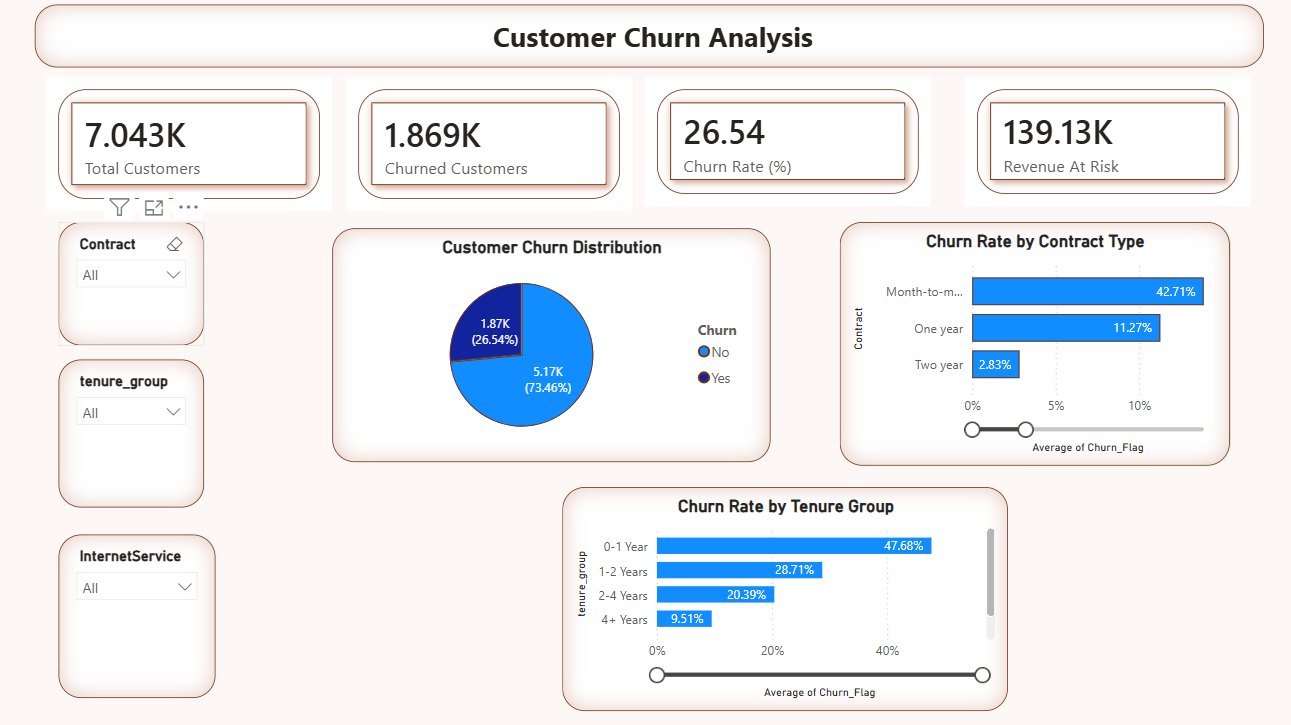

Layout of this report page (visuals, bound fields, positions):
{"tool":"powerbi","page":{"name":"OVERVIEW","canvas":[1280,720],"ordinal":0},"visuals":[{"type":"cardVisual","fields":{"Data":["CountNonNull(clean_telco_churn.customerID)"]},"box":[53.8,83.8,280,131.2],"z":0},{"type":"cardVisual","fields":{"Data":["Sum(clean_telco_churn.Churn_Flag)"]},"box":[347.5,83.8,280,131.2],"z":1000},{"type":"cardVisual","fields":{"Data":["clean_telco_churn.Revenue At Risk"]},"box":[952.5,83.8,280,126.2],"z":2000},{"type":"pieChart","title":"Customer Churn Distribution","fields":{"Category":["clean_telco_churn.Churn"],"Y":["CountNonNull(clean_telco_churn.customerID)"]},"box":[333.8,231.2,428.8,228.8],"z":3000},{"type":"clusteredBarChart","title":"Churn Rate by Contract Type","fields":{"Category":["clean_telco_churn.Contract"],"Y":["Avg(clean_telco_churn.Churn_Flag)"]},"box":[830,225,381.2,238.8],"z":4000},{"type":"clusteredBarChart","title":"Churn Rate by Tenure Group","fields":{"Category":["clean_telco_churn.tenure_group"],"Y":["Avg(clean_telco_churn.Churn_Flag)"]},"box":[558.5,484.4,436.4,219.6],"z":5000},{"type":"slicer","fields":{"Values":["clean_telco_churn.Contract"]},"box":[65.9,225,142.7,120.8],"z":6000},{"type":"slicer","fields":{"Values":["clean_telco_churn.tenure_group"]},"box":[66.2,360,142.5,145],"z":7000},{"type":"slicer","fields":{"Values":["clean_telco_churn.InternetService"]},"box":[66.2,531.2,153.8,160],"z":8000},{"type":"cardVisual","fields":{"Data":["clean_telco_churn.Churn Rate"]},"box":[640,83.8,280,126.2],"z":9000},{"type":"textbox","box":[42.5,12.5,1202.5,61.2],"z":10000}]}

Visuals, with their boxes in screenshot pixels (x1, y1, x2, y2), scaled from the page's 1280x720 canvas onto the 1291x725 screenshot:
cardVisual - CountNonNull(clean_telco_churn.customerID): bbox=(54, 84, 337, 216)
cardVisual - Sum(clean_telco_churn.Churn_Flag): bbox=(350, 84, 633, 216)
cardVisual - clean_telco_churn.Revenue At Risk: bbox=(961, 84, 1243, 211)
"Customer Churn Distribution" pieChart: bbox=(337, 233, 769, 463)
"Churn Rate by Contract Type" clusteredBarChart: bbox=(837, 227, 1222, 467)
"Churn Rate by Tenure Group" clusteredBarChart: bbox=(563, 488, 1003, 709)
slicer - clean_telco_churn.Contract: bbox=(66, 227, 210, 348)
slicer - clean_telco_churn.tenure_group: bbox=(67, 362, 210, 509)
slicer - clean_telco_churn.InternetService: bbox=(67, 535, 222, 696)
cardVisual - clean_telco_churn.Churn Rate: bbox=(646, 84, 928, 211)
textbox: bbox=(43, 13, 1256, 74)
